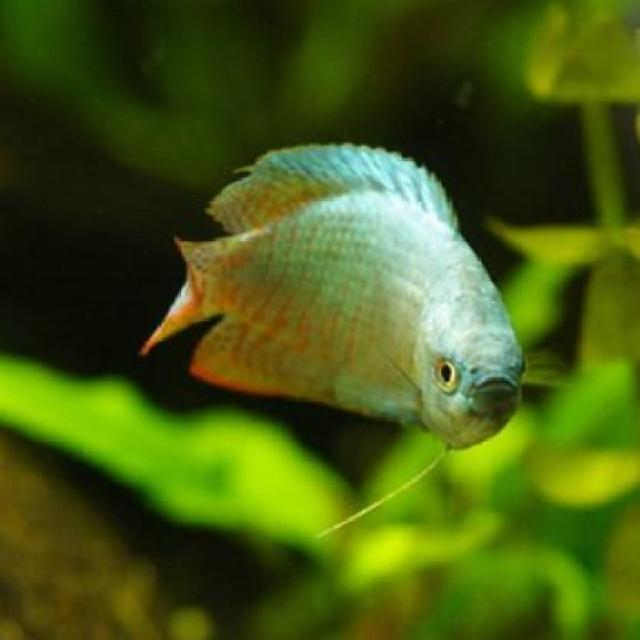Gourami: (134, 140, 518, 460)
